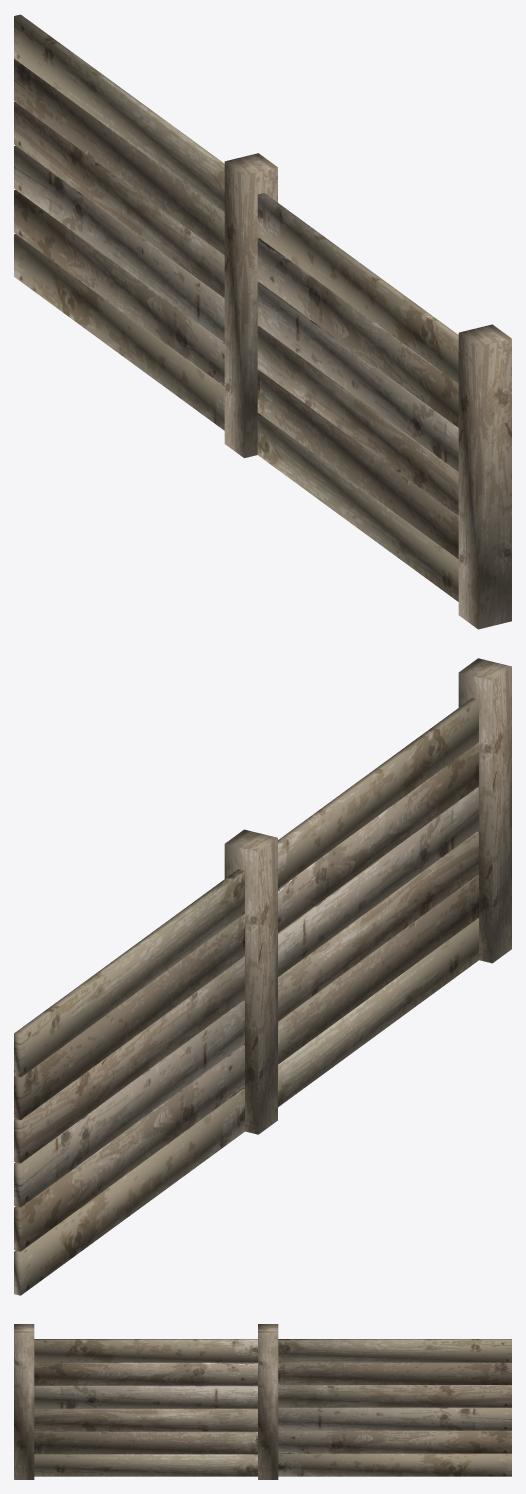
The model's file is phex_staticfence.fbx.
3 views of the same model, one above another, from view 1: azimuth 30°, elevation 25°; view 2: azimuth 150°, elevation 25°; view 3: azimuth 270°, elevation 25° (orthographic). The views are drawn at different scales.
Parts seen in each view (by area): view 1: Static Fence 01 open; view 2: Static Fence 01 open; view 3: Static Fence 01 open.
Part boxes in pixels (<box>): Static Fence 01 open: <box>14,14,511,629</box>; Static Fence 01 open: <box>14,658,511,1295</box>; Static Fence 01 open: <box>14,1324,511,1479</box>.
Bounding box in the file's own units: 25 × 200 × 613.
